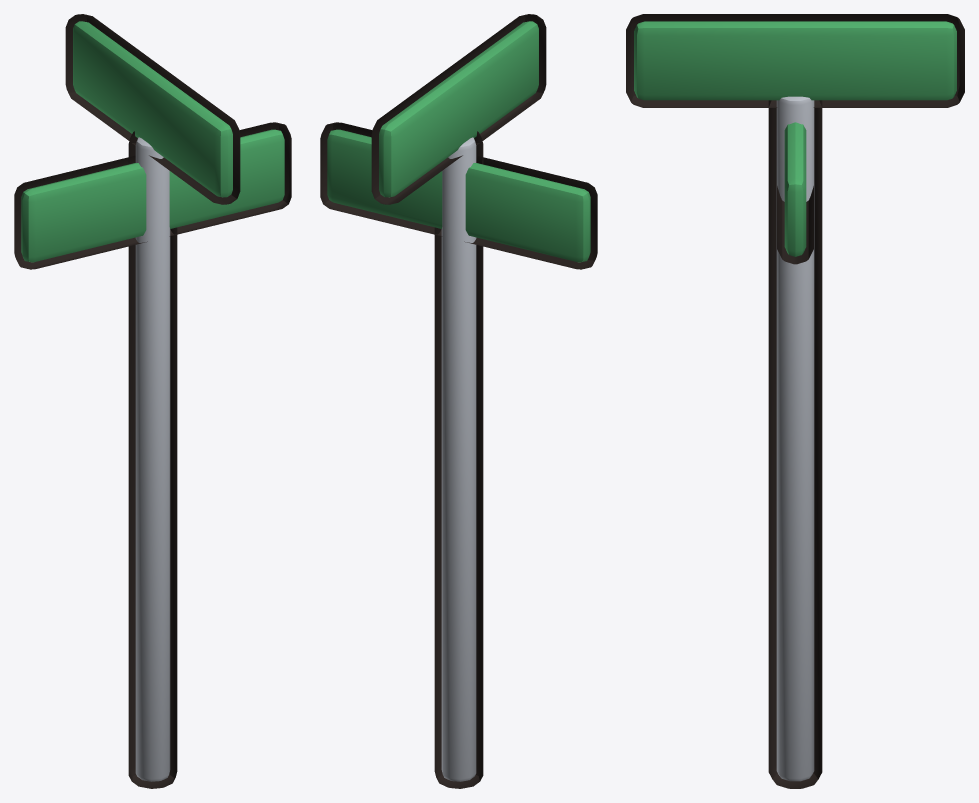
The model's file is StreetSign.fbx.
The picture shows the model from 3 angles, left to right: view 1: azimuth 30°, elevation 25°; view 2: azimuth 150°, elevation 25°; view 3: azimuth 270°, elevation 25°; orthographic projection. The views are drawn at different scales.
Parts seen in each view (by area): view 1: PR_StreetSign_AwningGreen, PR_StreetSign_MetalLight, PR_StreetSign_Outline; view 2: PR_StreetSign_AwningGreen, PR_StreetSign_MetalLight, PR_StreetSign_Outline; view 3: PR_StreetSign_AwningGreen, PR_StreetSign_MetalLight, PR_StreetSign_Outline.
Boxes of the visible parts, <box> form: PR_StreetSign_AwningGreen: <box>21,21,284,262</box>; PR_StreetSign_MetalLight: <box>135,137,170,781</box>; PR_StreetSign_Outline: <box>14,14,291,788</box>; PR_StreetSign_AwningGreen: <box>327,21,590,262</box>; PR_StreetSign_MetalLight: <box>441,137,476,781</box>; PR_StreetSign_Outline: <box>320,14,597,788</box>; PR_StreetSign_AwningGreen: <box>634,21,956,256</box>; PR_StreetSign_MetalLight: <box>776,96,814,781</box>; PR_StreetSign_Outline: <box>626,14,964,788</box>.
Bounding box in the file's own units: 1.26 × 3.15 × 1.26.
